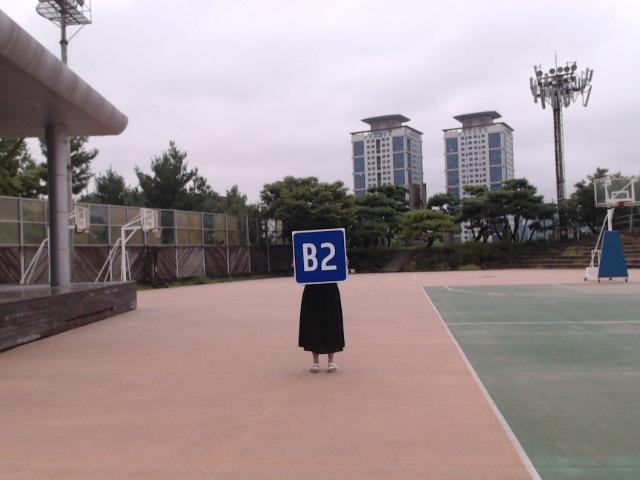delivery_b2: (293, 229, 348, 284)
